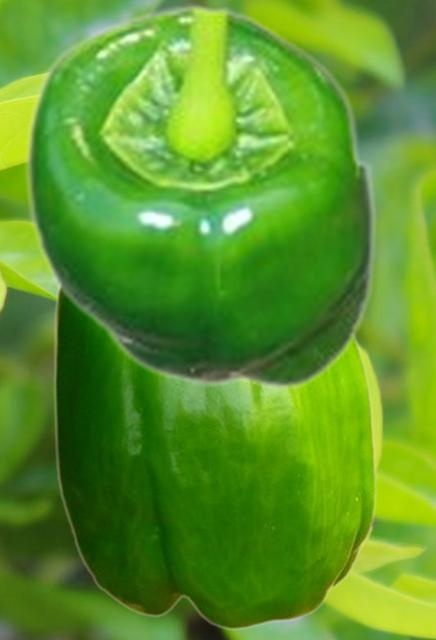bell_pepper: (22, 2, 377, 389), (52, 287, 376, 630)
